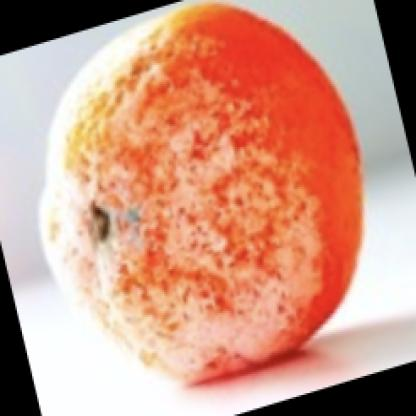rotten: (45, 8, 365, 386)
